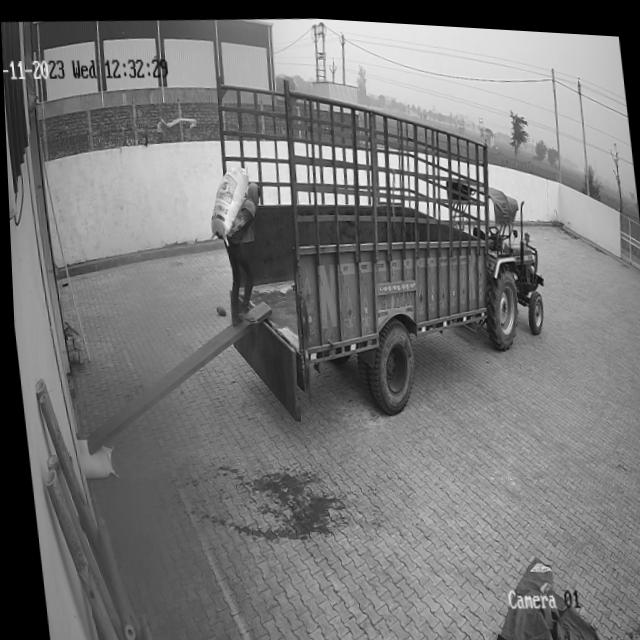sack: (200, 160, 253, 247), (73, 435, 111, 479)
